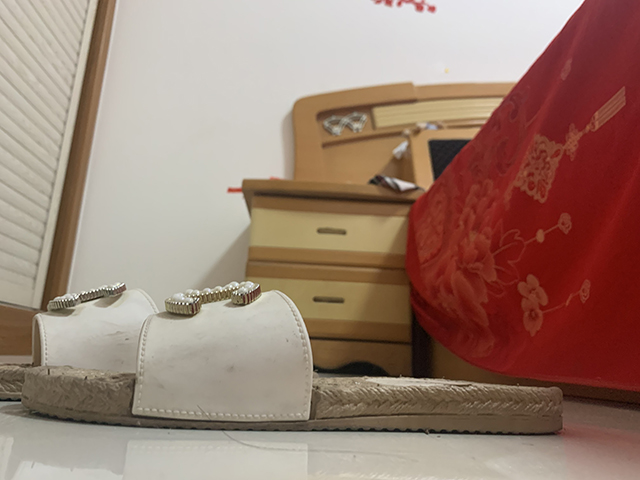bed: (291, 1, 640, 411)
cabinet: (240, 177, 425, 379)
slippers: (24, 279, 565, 438)
